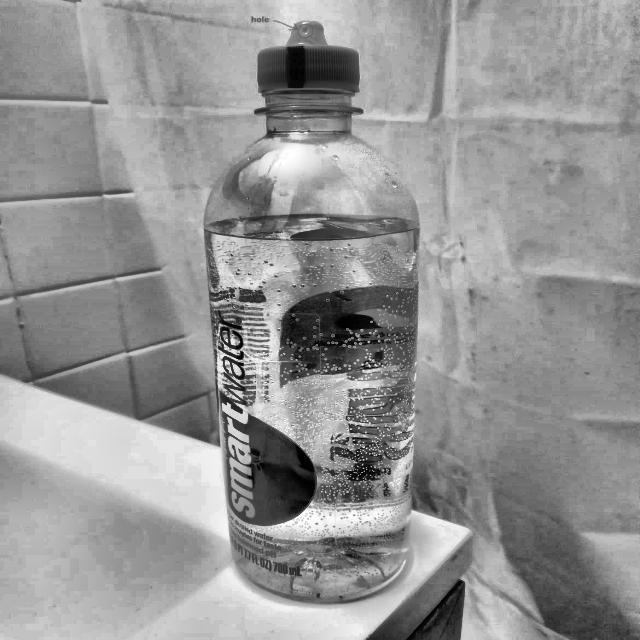waterbottle: (204, 17, 422, 603)
